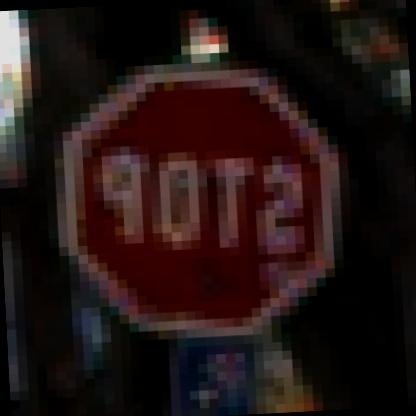stop: (46, 51, 357, 350)
